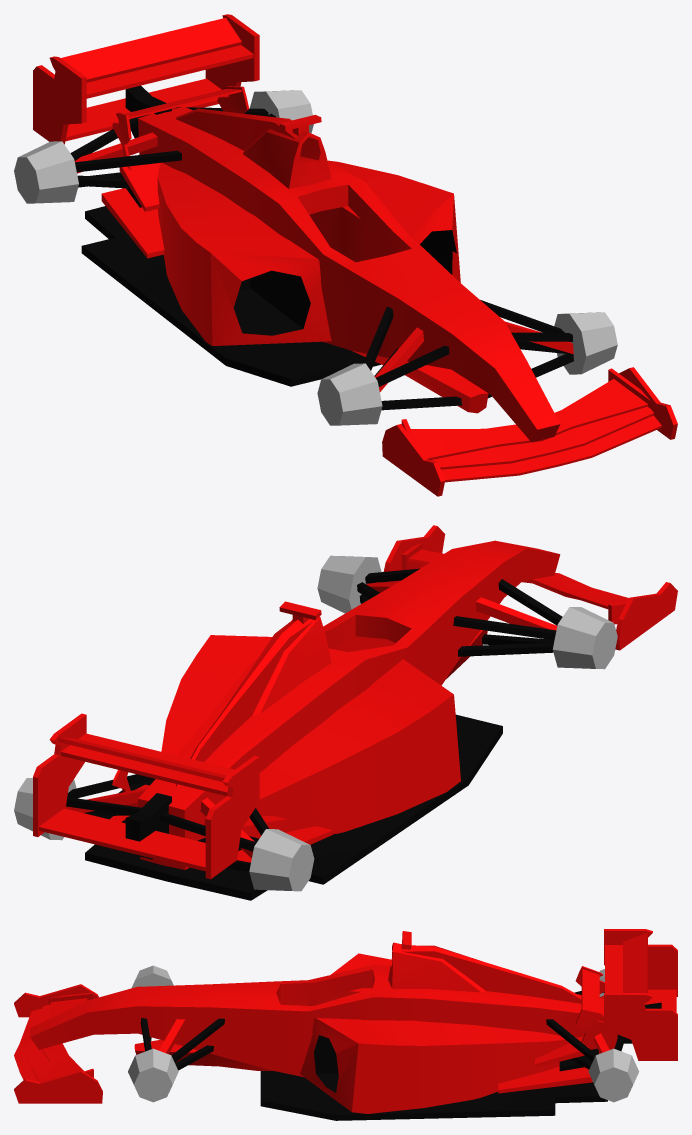
The model's file is car_simple.gltf.
3 views of the same model, one above another, from view 1: azimuth 30°, elevation 25°; view 2: azimuth 150°, elevation 25°; view 3: azimuth 270°, elevation 25° (orthographic). The views are drawn at different scales.
Visible parts, largest first — view 1: car_low, car_frame; view 2: car_low, car_frame; view 3: car_low, car_frame.
Part boxes in pixels (x1,y1,x2,y2): car_low: [14, 14, 677, 496]; car_frame: [70, 107, 573, 410]; car_low: [14, 525, 677, 900]; car_frame: [65, 568, 562, 871]; car_low: [14, 929, 677, 1120]; car_frame: [140, 991, 625, 1070].
Bounding box in the file's own units: 1.57 × 0.9963 × 4.33.
Materials: 3 (1 with a texture image).
